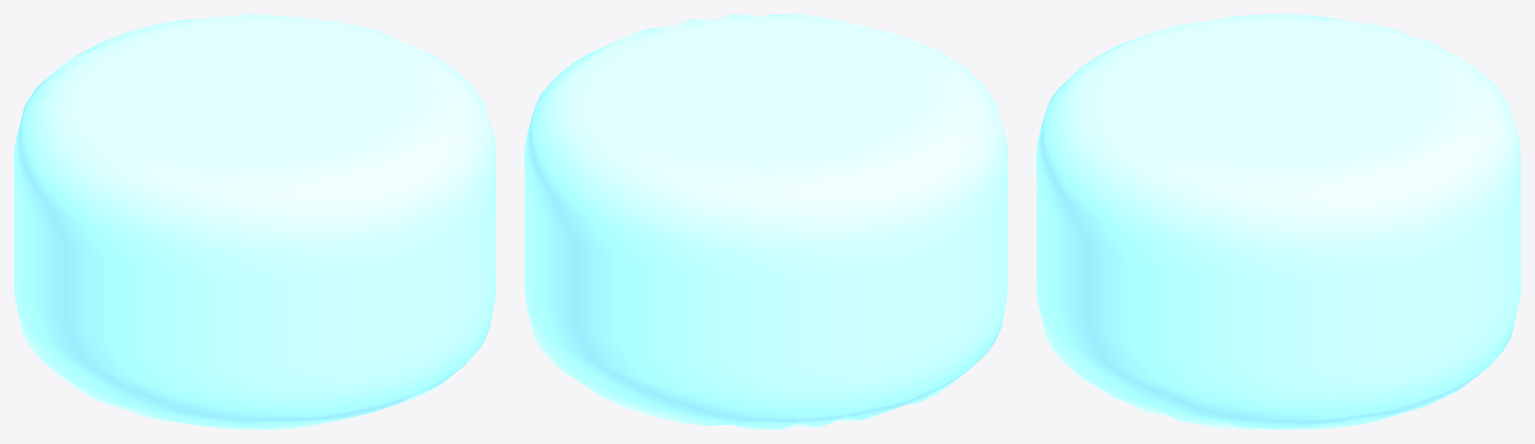
Rendered from 085_right_temple_status_led.glb.
The picture shows the model from 3 angles, left to right: view 1: azimuth 30°, elevation 25°; view 2: azimuth 150°, elevation 25°; view 3: azimuth 270°, elevation 25°; orthographic projection.
Parts seen in each view (by area): view 1: 085 | Right Temple Status LED; view 2: 085 | Right Temple Status LED; view 3: 085 | Right Temple Status LED.
Boxes of the visible parts, x1,y1,x2,y2 form: 085 | Right Temple Status LED: (14,14,495,429); 085 | Right Temple Status LED: (524,14,1007,429); 085 | Right Temple Status LED: (1036,14,1520,429).
Size of the model in its own units: 0.0014 by 0.0008 by 0.0014.
